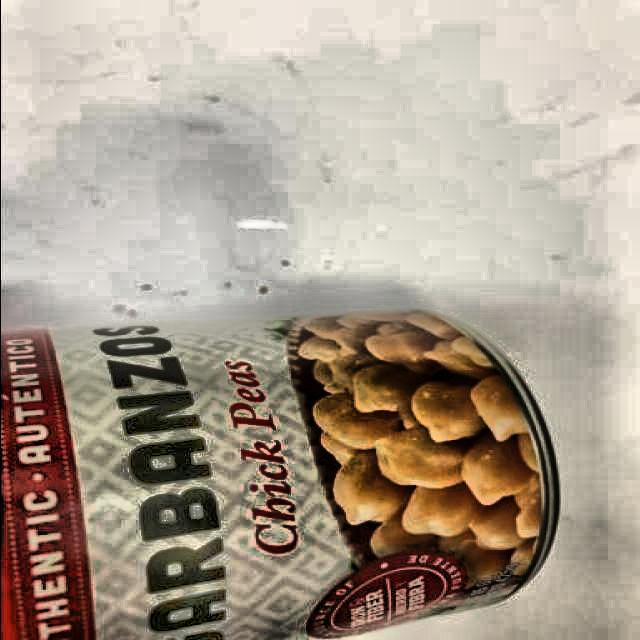metal: (0, 310, 560, 640)
